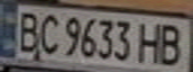3: (112, 17, 136, 63), (97, 16, 118, 61)
6: (78, 15, 100, 60)
9: (60, 14, 84, 57)
B: (154, 20, 190, 66), (12, 8, 42, 54)
C: (33, 10, 63, 55)
H: (136, 18, 166, 64)
